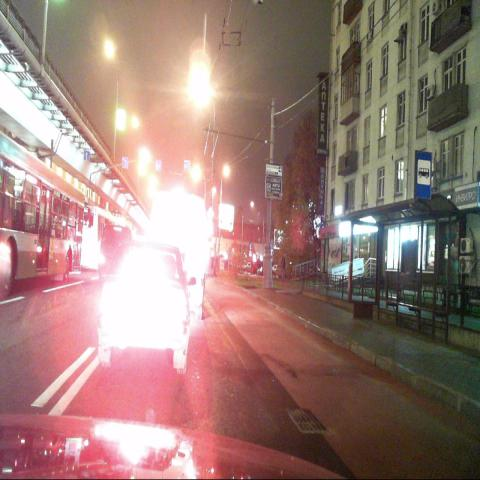5_16: (414, 149, 432, 198)
